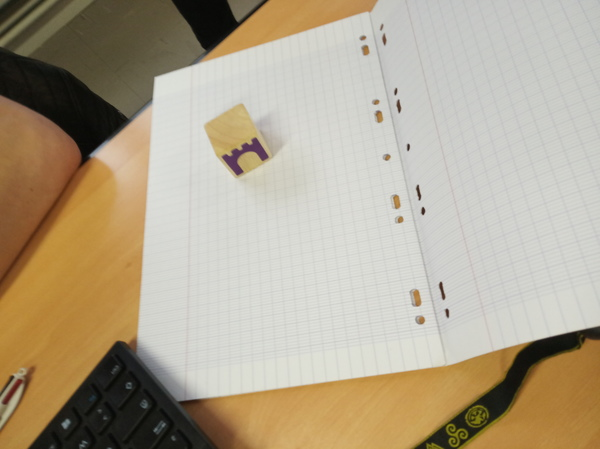violet: (204, 110, 273, 175)
